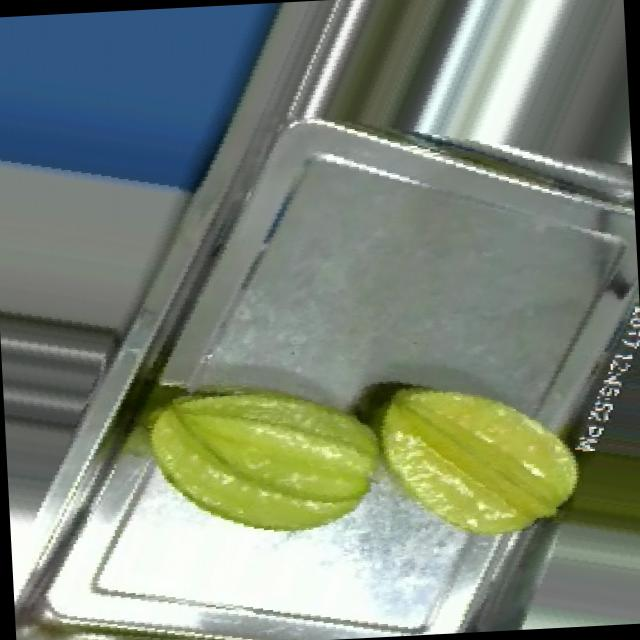fruit: (118, 343, 414, 574), (349, 340, 608, 564)
